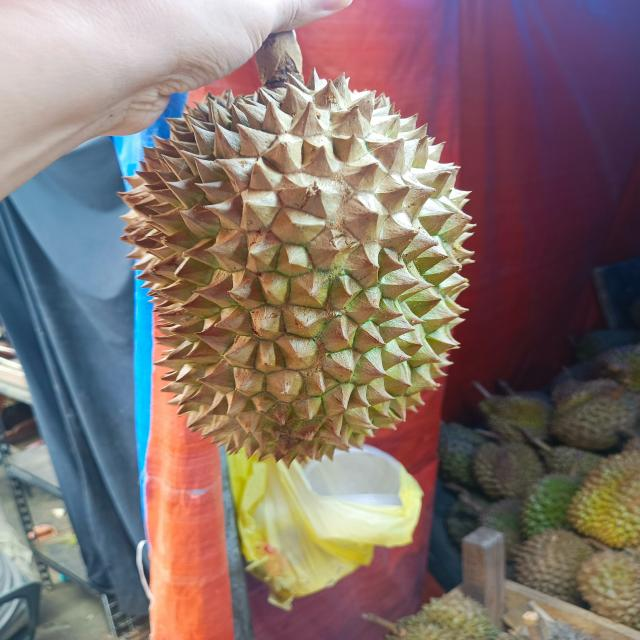mature: (117, 70, 473, 471)
